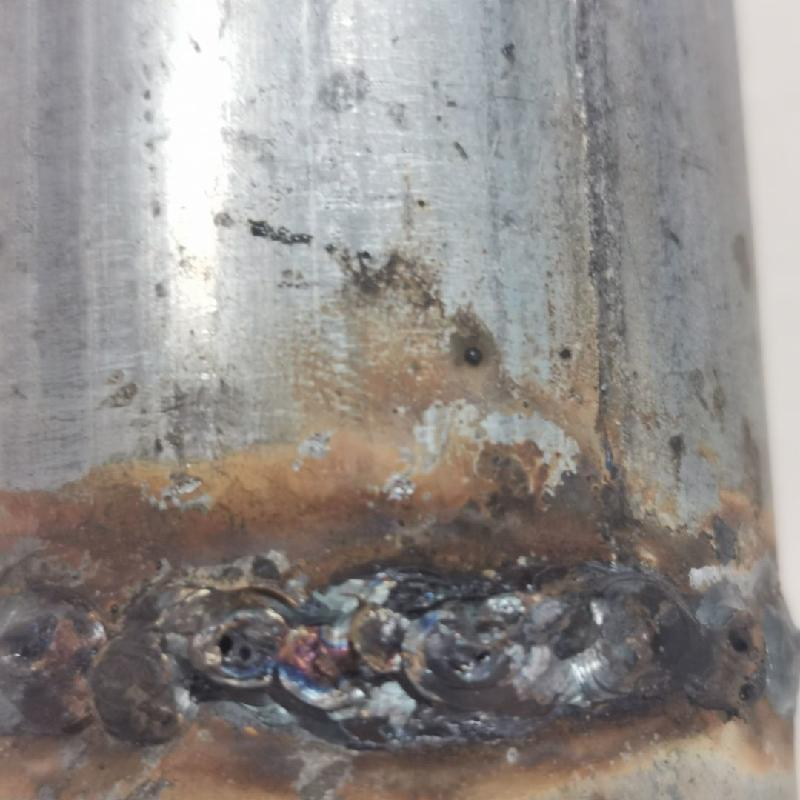Surface_pores: (705, 604, 773, 710), (195, 619, 273, 682), (3, 626, 50, 672)
crater: (163, 581, 500, 727)
wrong_size: (508, 572, 799, 722), (9, 595, 187, 734)
